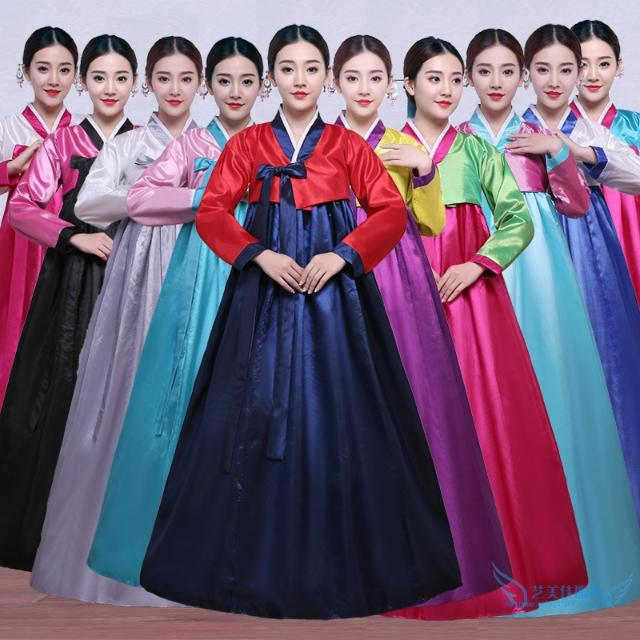head: (266, 24, 334, 114), (523, 23, 585, 112), (332, 34, 396, 118), (402, 38, 466, 120), (144, 36, 206, 120), (206, 38, 268, 122), (464, 28, 526, 112), (20, 27, 82, 109), (80, 36, 140, 118), (568, 21, 624, 103)
person: (133, 23, 470, 625), (290, 32, 516, 610), (372, 33, 590, 622), (79, 36, 297, 606), (25, 32, 224, 608), (0, 31, 156, 585), (0, 23, 100, 561)
